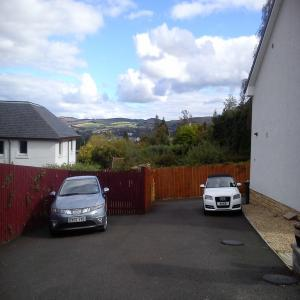Vehicle-registration-plate: (70, 218, 87, 224), (218, 202, 231, 208)
